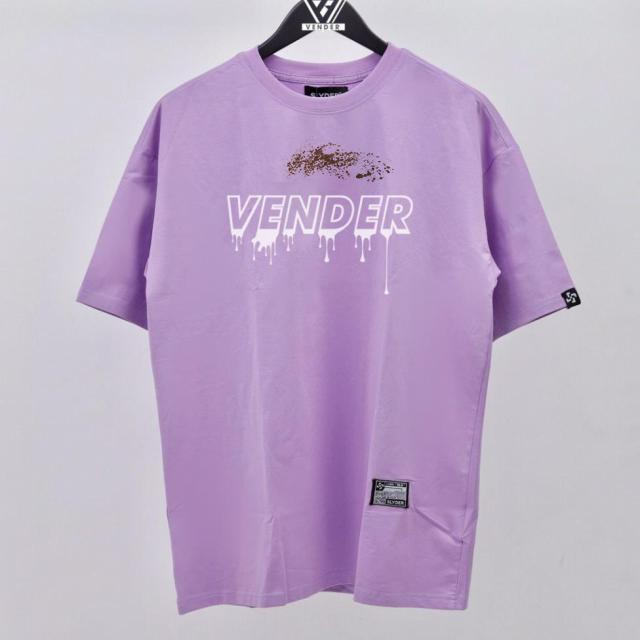stain: (286, 138, 399, 183)
